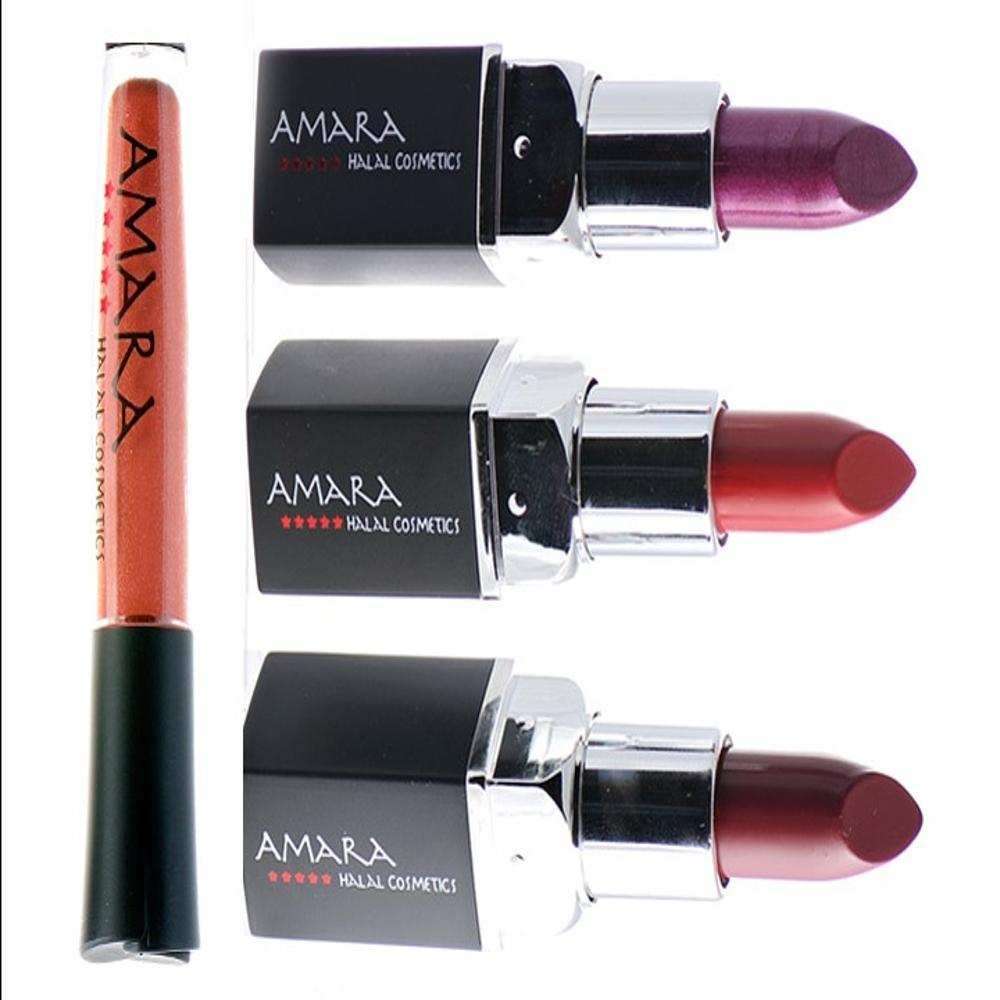lipstick: (228, 304, 929, 631), (239, 644, 932, 951), (249, 40, 922, 295), (72, 35, 201, 969)
